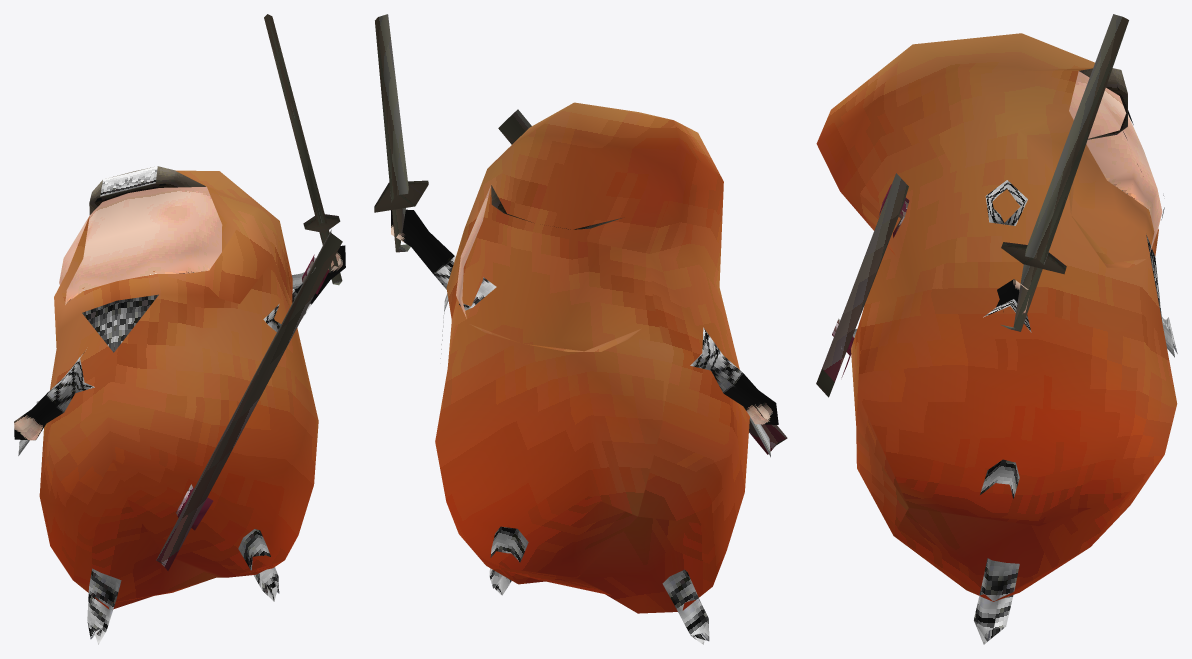
File: ps2_save-icons_simple2000seriesvol114theonnaokappichitorimonochouoharuchangogogo.glb
The picture shows the model from 3 angles, left to right: view 1: azimuth 30°, elevation 25°; view 2: azimuth 150°, elevation 25°; view 3: azimuth 270°, elevation 25°; orthographic projection. The views are drawn at different scales.
Visible parts, largest first — view 1: mc.ico; view 2: mc.ico; view 3: mc.ico.
Part boxes in pixels (x1,y1,x2,y2): mc.ico: [14, 14, 345, 644]; mc.ico: [374, 14, 787, 644]; mc.ico: [816, 14, 1177, 644].
Size of the model in its own units: 2.45 by 3.74 by 1.86.
1 material, 1 textured.
